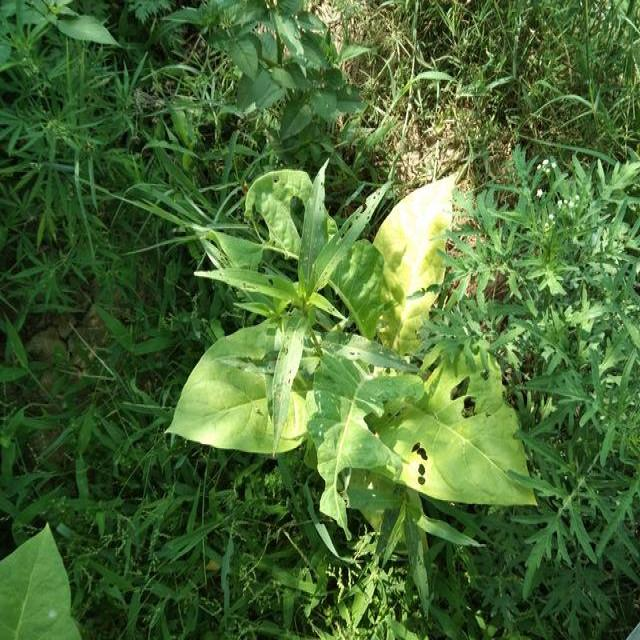crop: (175, 168, 538, 518)
